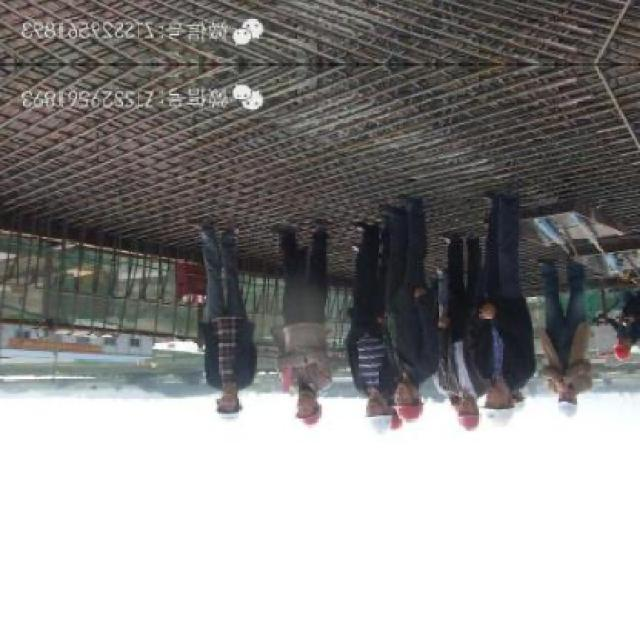con casco: (446, 374, 526, 443), (258, 372, 343, 428), (181, 376, 245, 439), (356, 366, 436, 416), (333, 390, 401, 446), (418, 400, 493, 440)
